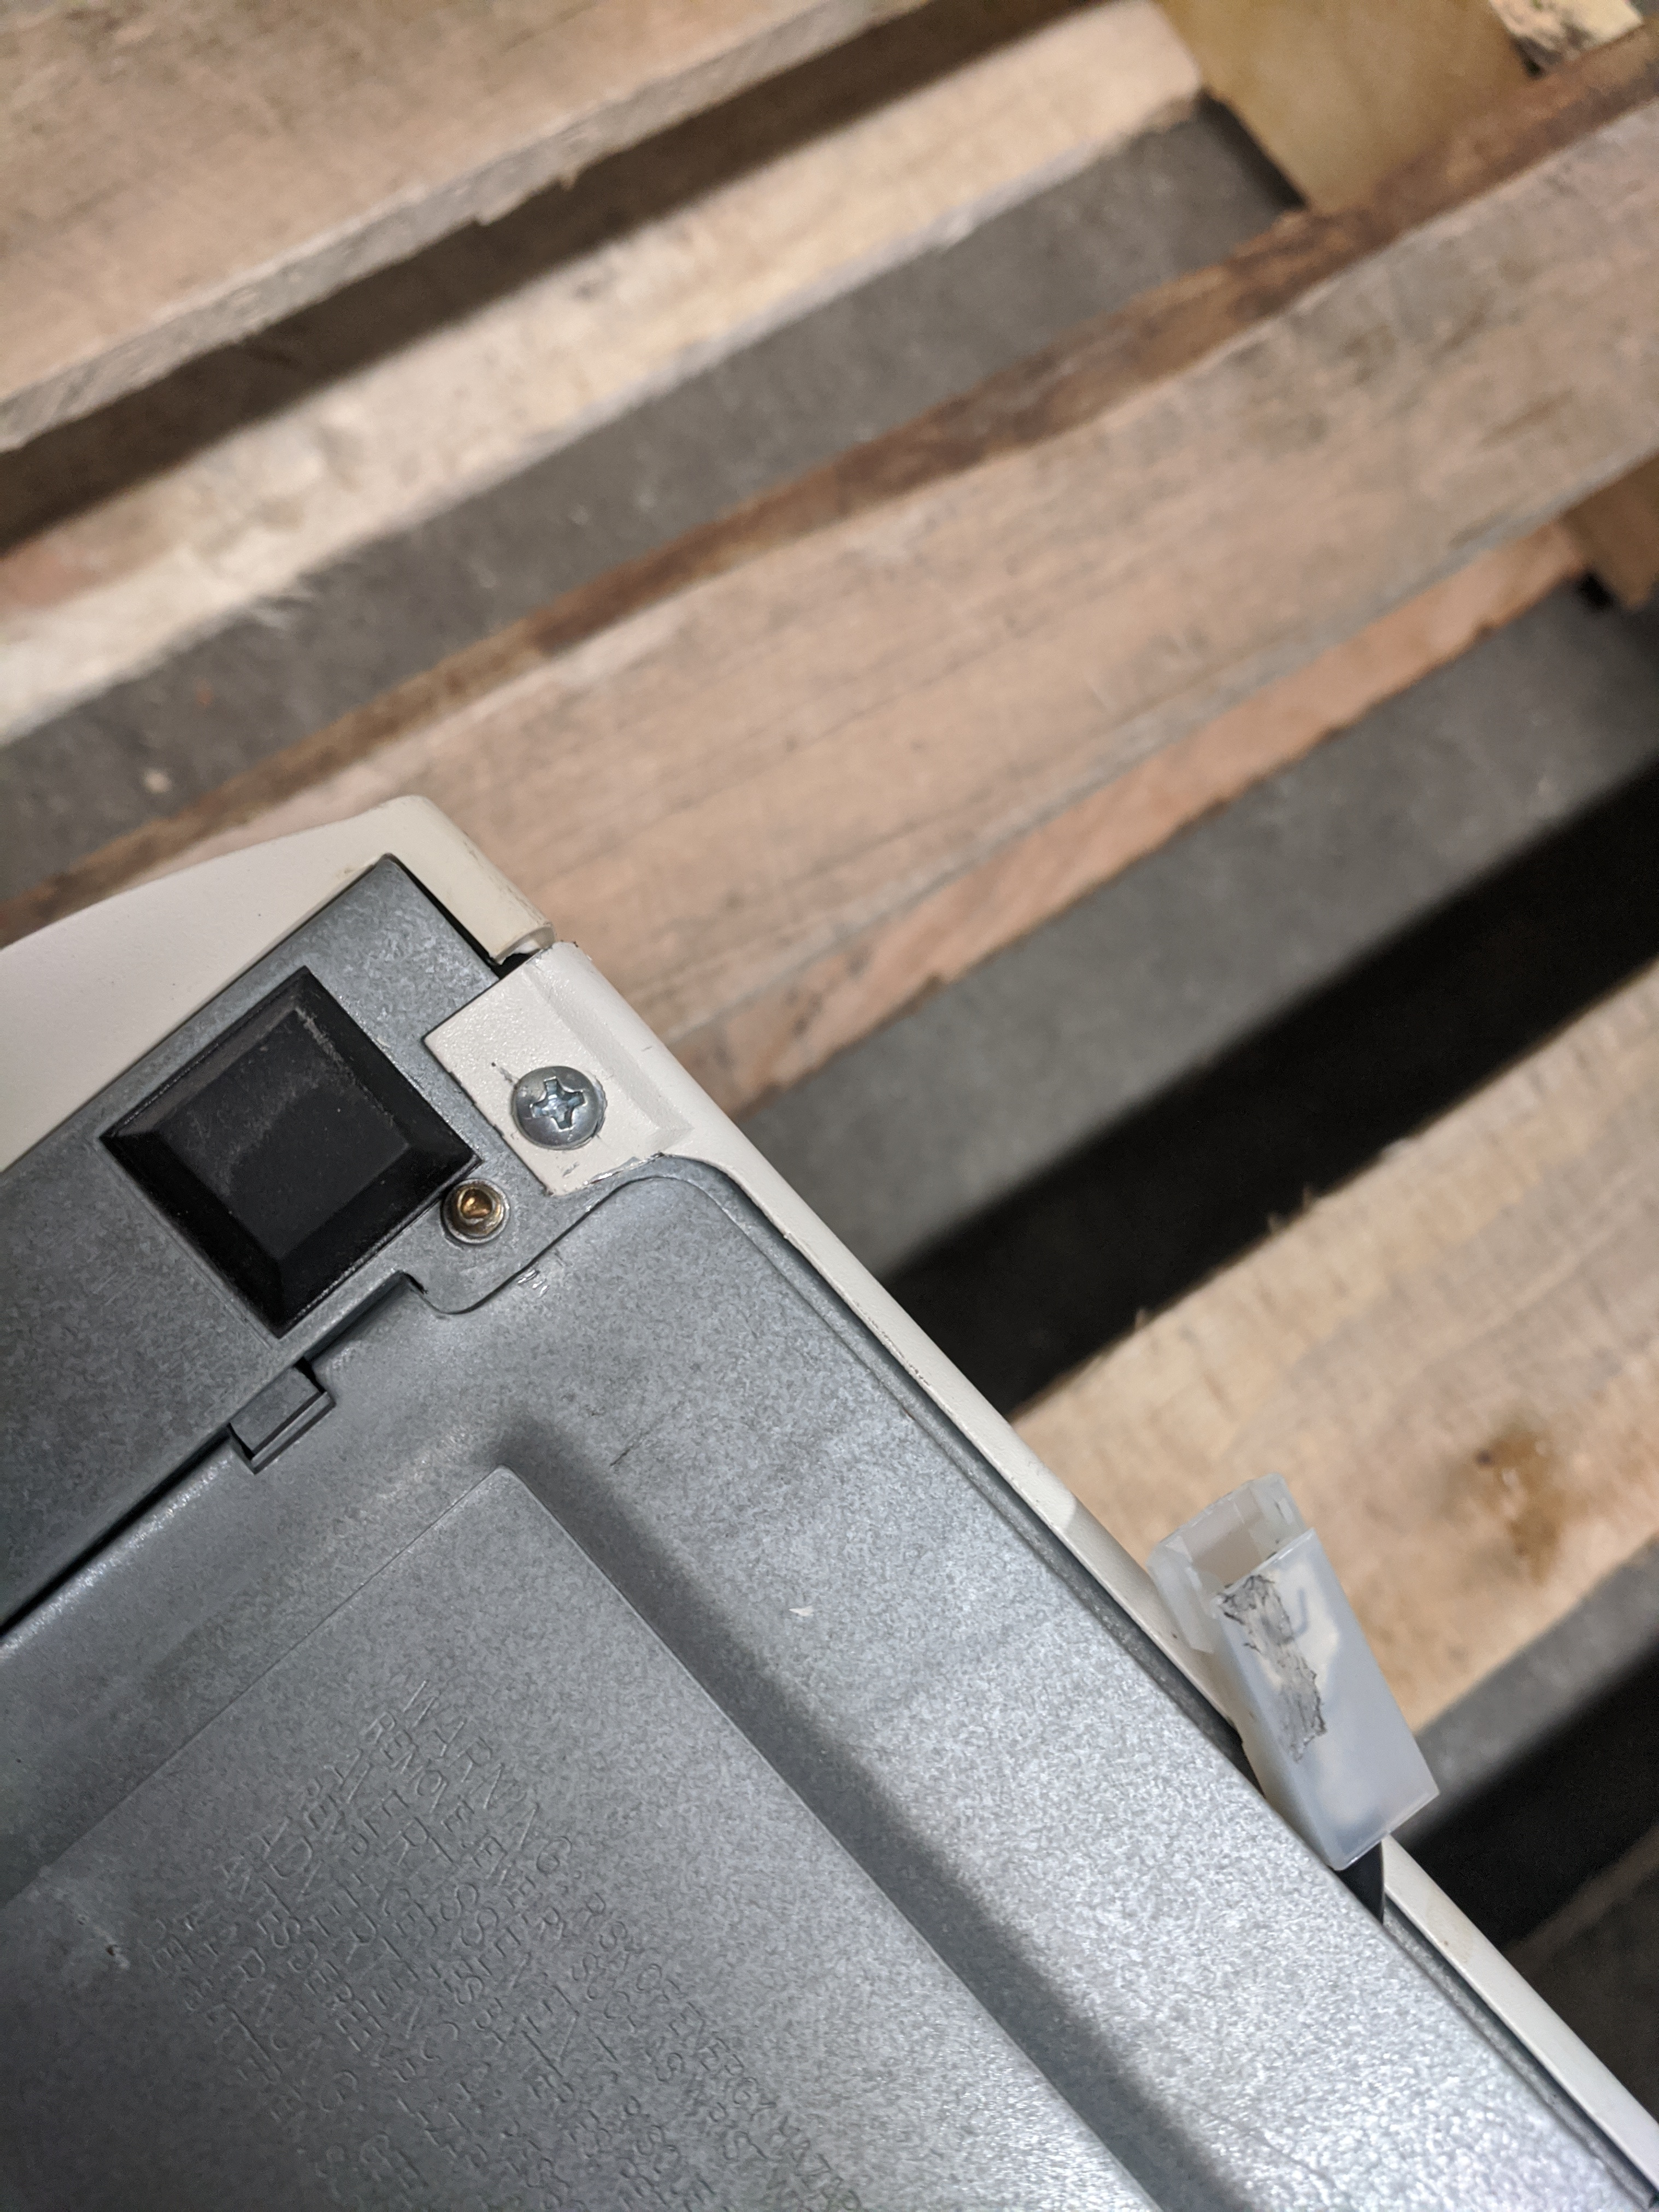cross_recessed_screw: (497, 1047, 608, 1157)
